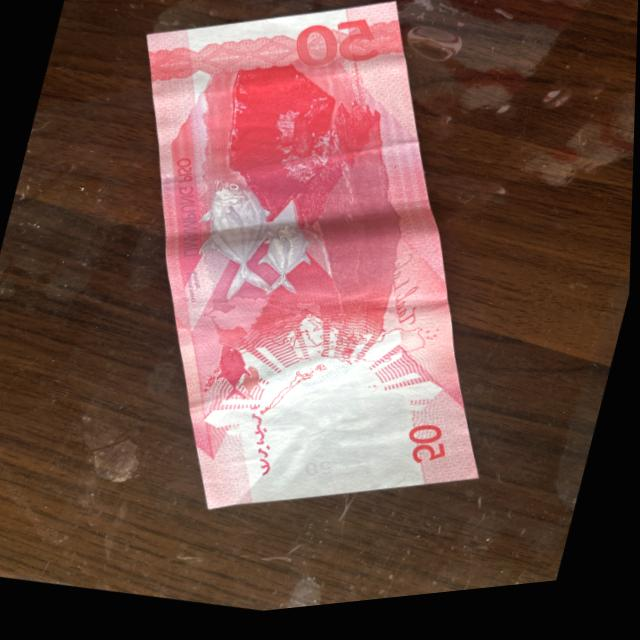50_maliputo: (172, 154, 426, 345)
50_maliputo_watermark: (198, 340, 280, 422)
value_watermark: (304, 452, 354, 491)
